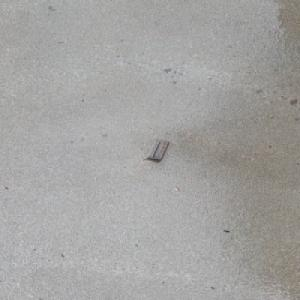MetalPart: (142, 140, 170, 163)
